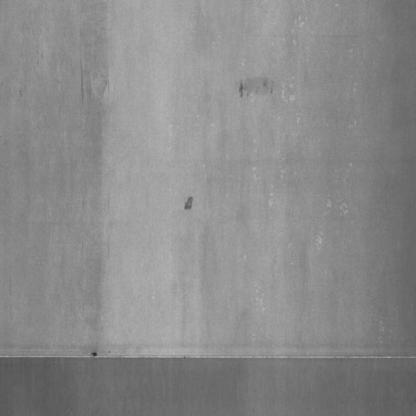welding_line: (3, 342, 416, 366)
